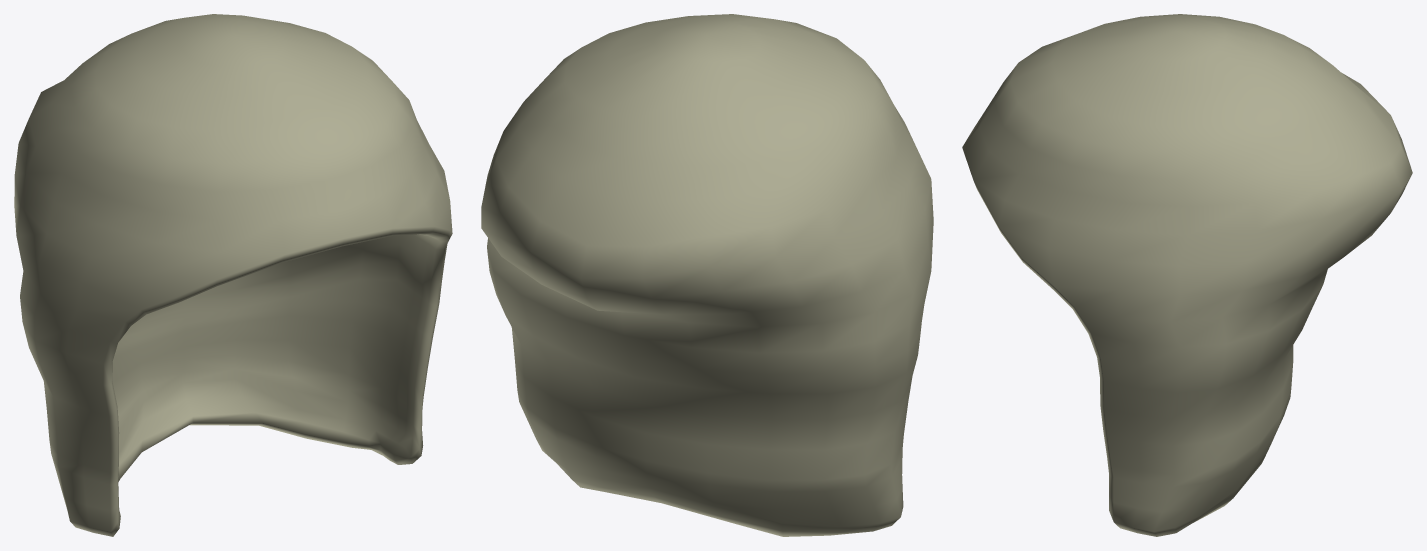
Rendered from Sloth Hat.fbx.
3 views of the same model, side by side, from view 1: azimuth 30°, elevation 25°; view 2: azimuth 150°, elevation 25°; view 3: azimuth 270°, elevation 25° (orthographic). The views are drawn at different scales.
Visible parts, largest first — view 1: gorrito; view 2: gorrito; view 3: gorrito.
Part boxes in pixels (x1,y1,x2,y2): gorrito: (14,14,452,536); gorrito: (481,14,933,536); gorrito: (962,14,1412,536).
Bounding box in the file's own units: 64.97 × 70.47 × 66.62.
